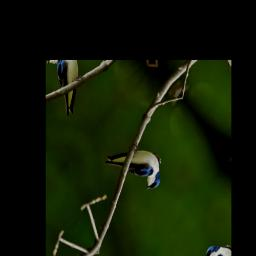Swallow: (102, 124, 171, 208)
